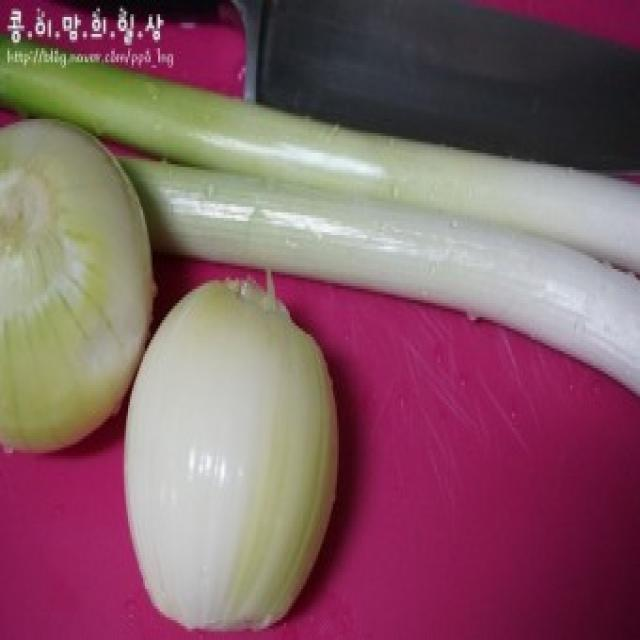onion: (148, 276, 336, 637), (8, 126, 153, 407)
